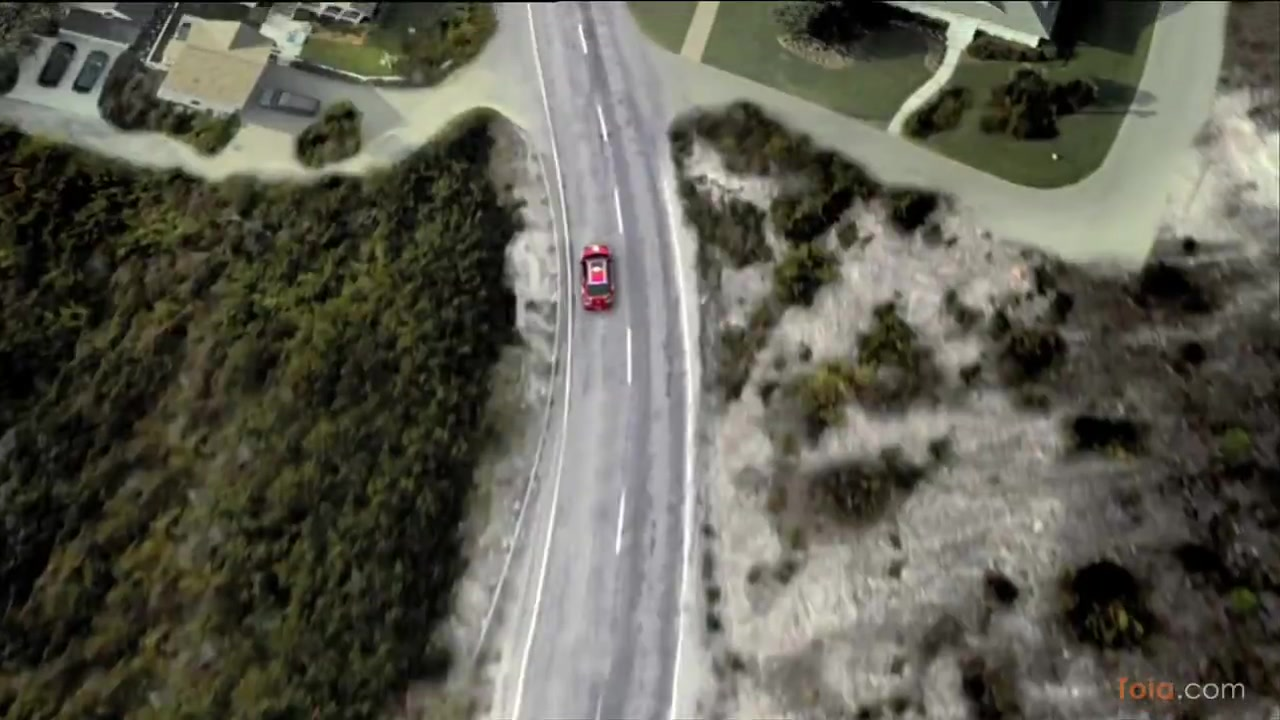car: (577, 240, 624, 316)
